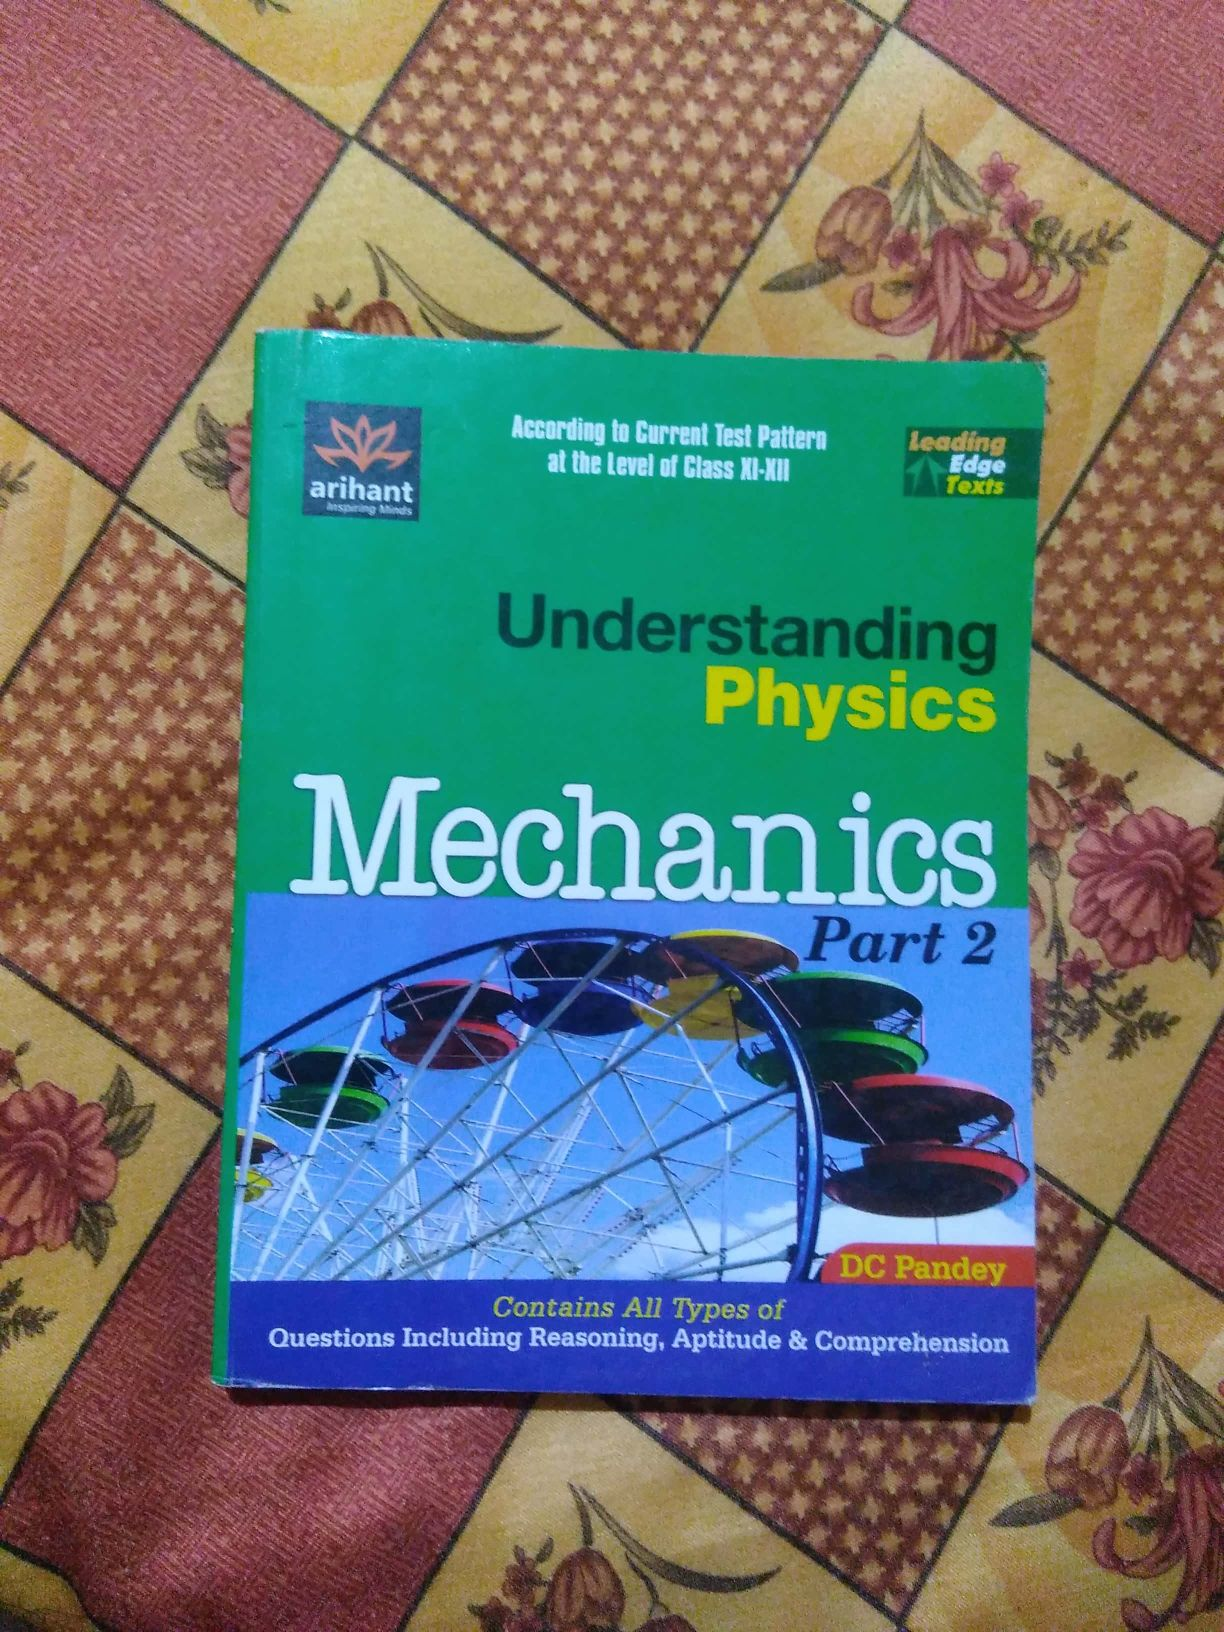mechanics: (224, 312, 1128, 1432)
